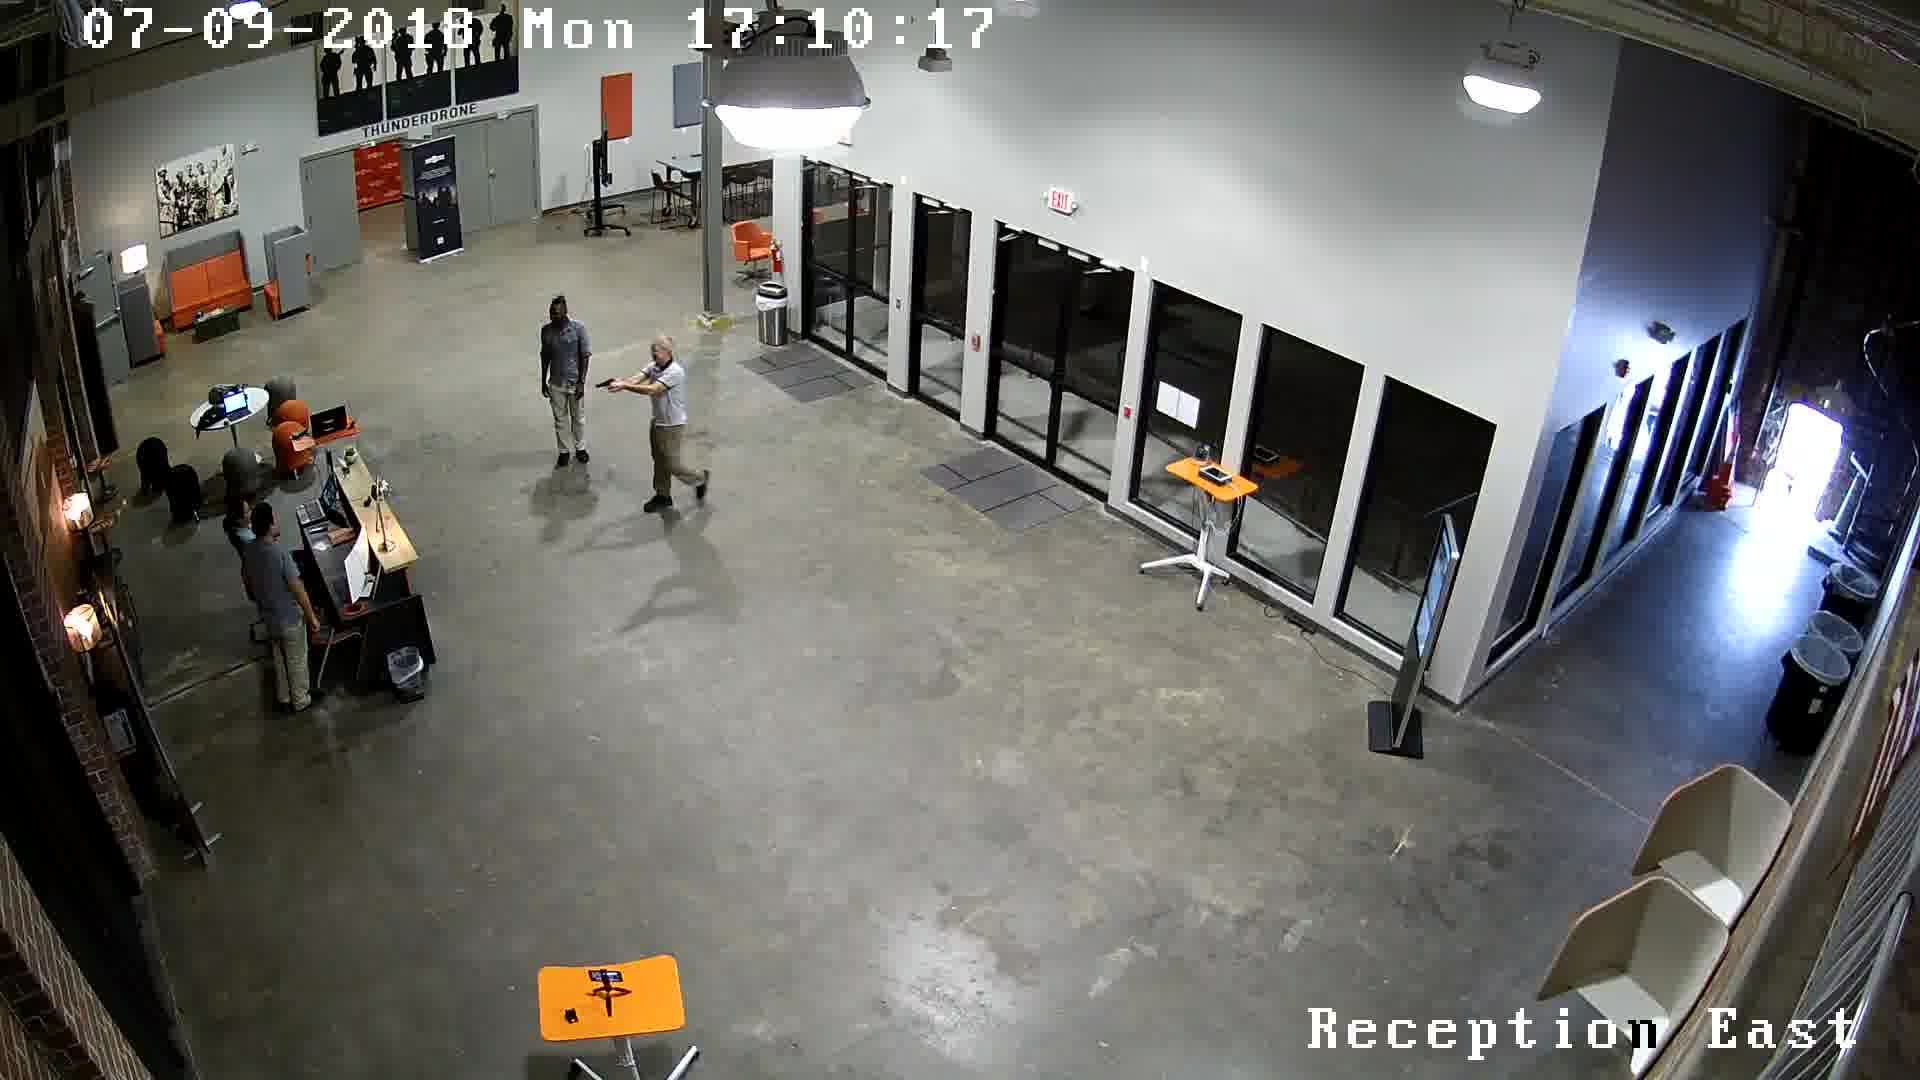pistol: (592, 372, 629, 407)
